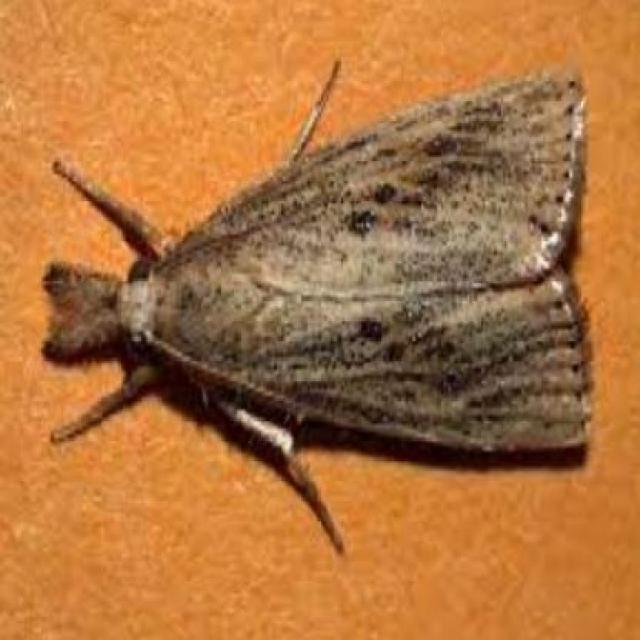stem-borer: (41, 57, 592, 565)
